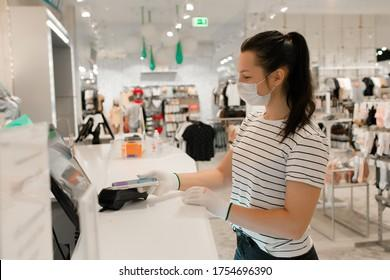gloves: (184, 187, 234, 220), (136, 170, 181, 196)
